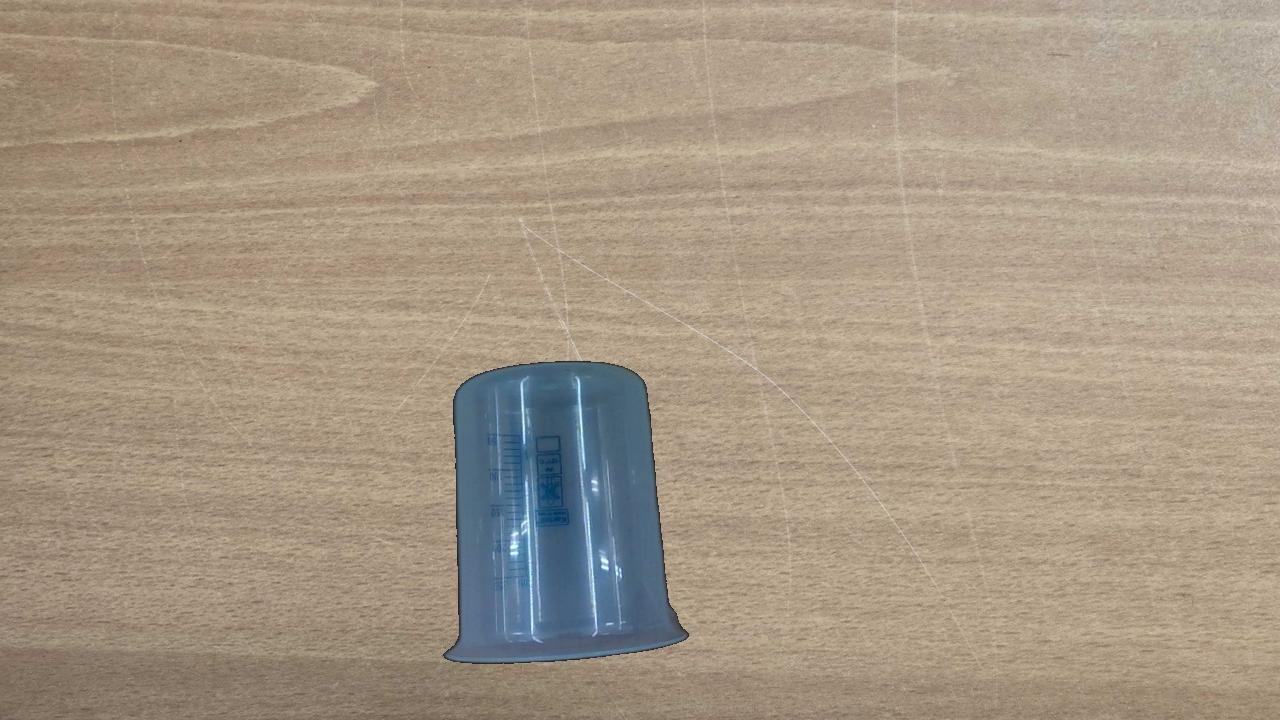cup: (445, 359, 691, 662)
